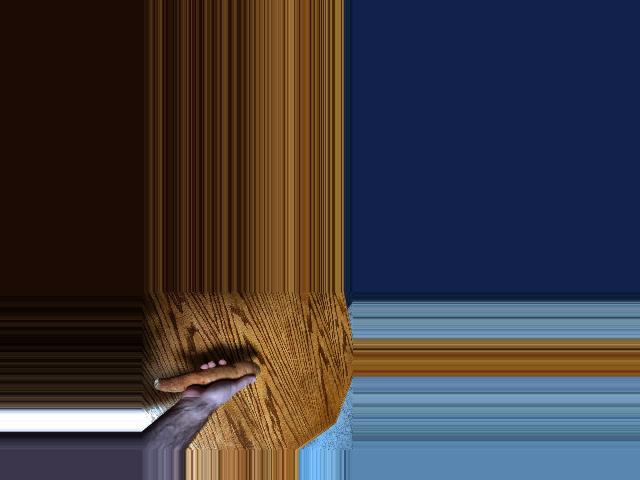sweet_potato: (149, 359, 259, 396)
